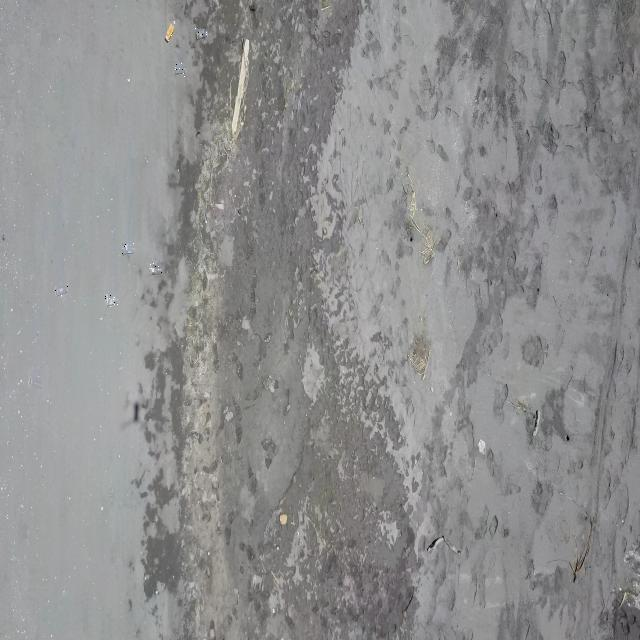plastic-bottle: (164, 20, 176, 44)
takeaway-cup: (120, 241, 136, 256), (105, 293, 120, 307), (150, 262, 164, 276), (174, 63, 187, 77), (54, 284, 68, 296), (195, 28, 209, 39)
